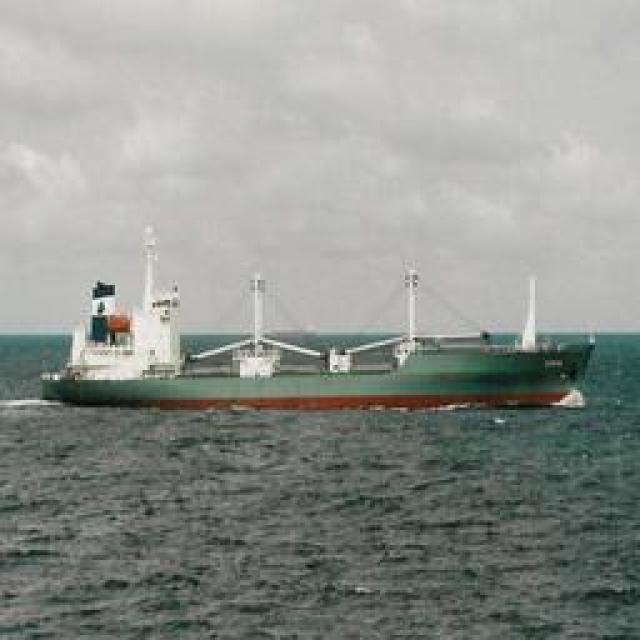ship2: (19, 214, 575, 388)
